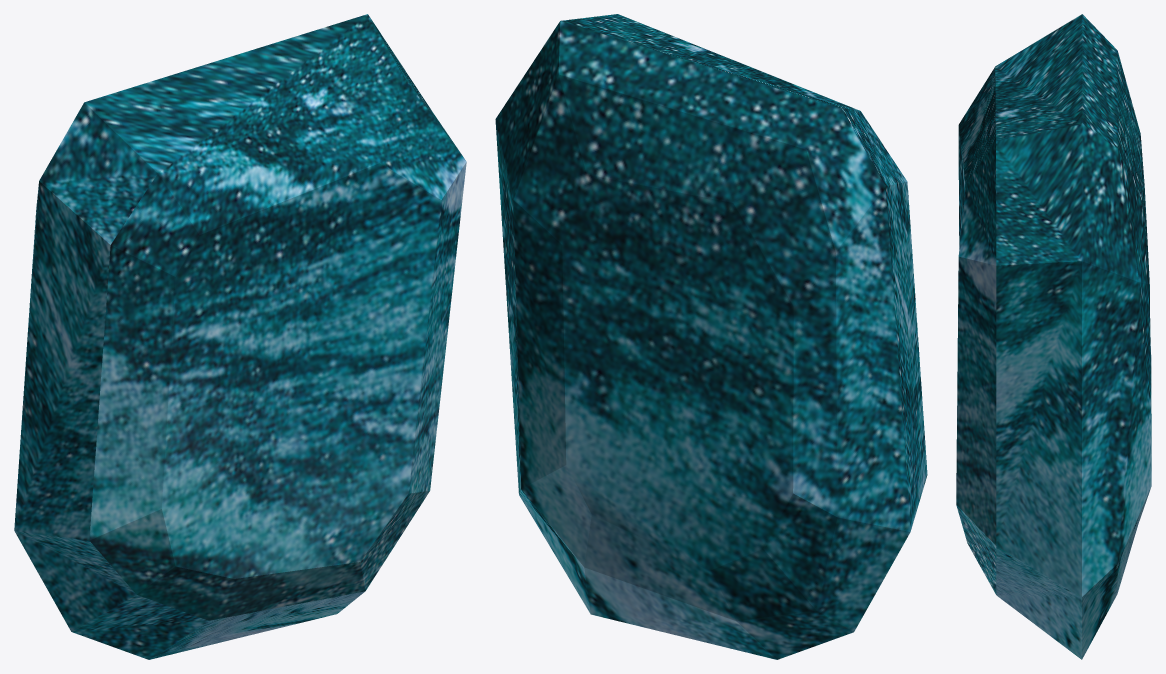
Rendered from F_Rune.fbx.
3 renders of one model, left to right at view 1: azimuth 30°, elevation 25°; view 2: azimuth 150°, elevation 25°; view 3: azimuth 270°, elevation 25°, orthographic. The views are drawn at different scales.
Visible parts, largest first — view 1: F_Rune_GEO1; view 2: F_Rune_GEO1; view 3: F_Rune_GEO1.
Boxes of the visible parts, left/top/right/bottom form: F_Rune_GEO1: left=14, top=14, right=466, bottom=659; F_Rune_GEO1: left=495, top=14, right=927, bottom=659; F_Rune_GEO1: left=956, top=14, right=1151, bottom=659.
Size of the model in its own units: 2.18 by 2.94 by 0.9477.
